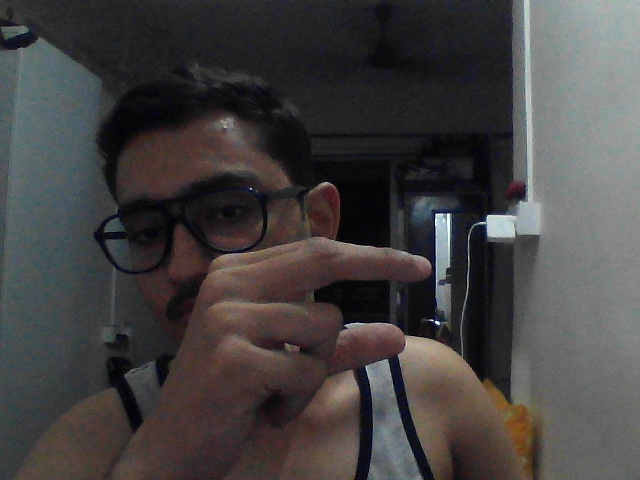No: (173, 226, 440, 417)
